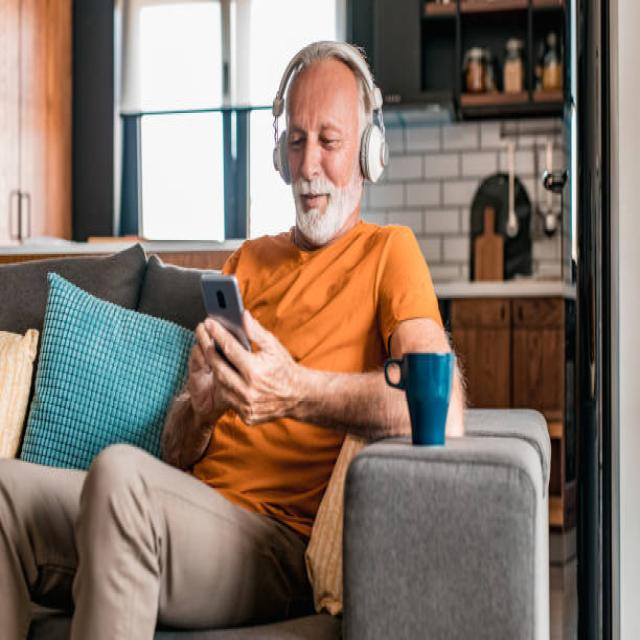Headphone: (272, 39, 390, 187)
